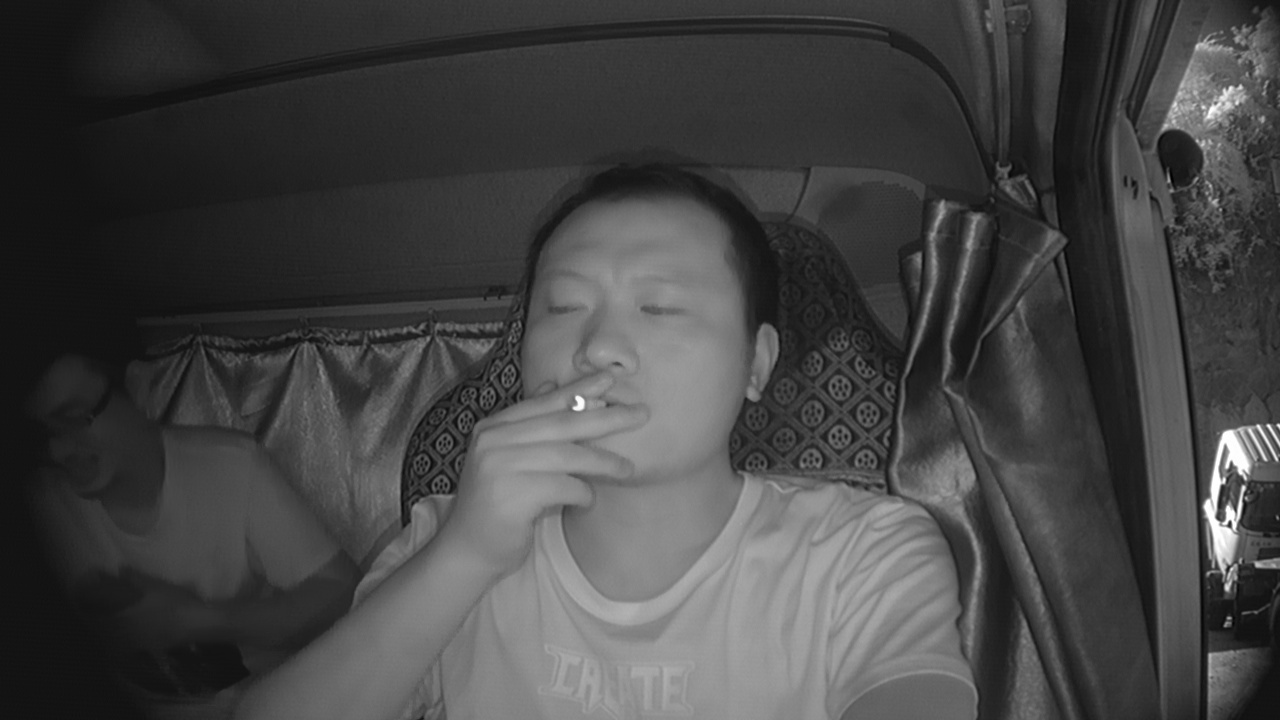hand: (473, 366, 639, 538)
